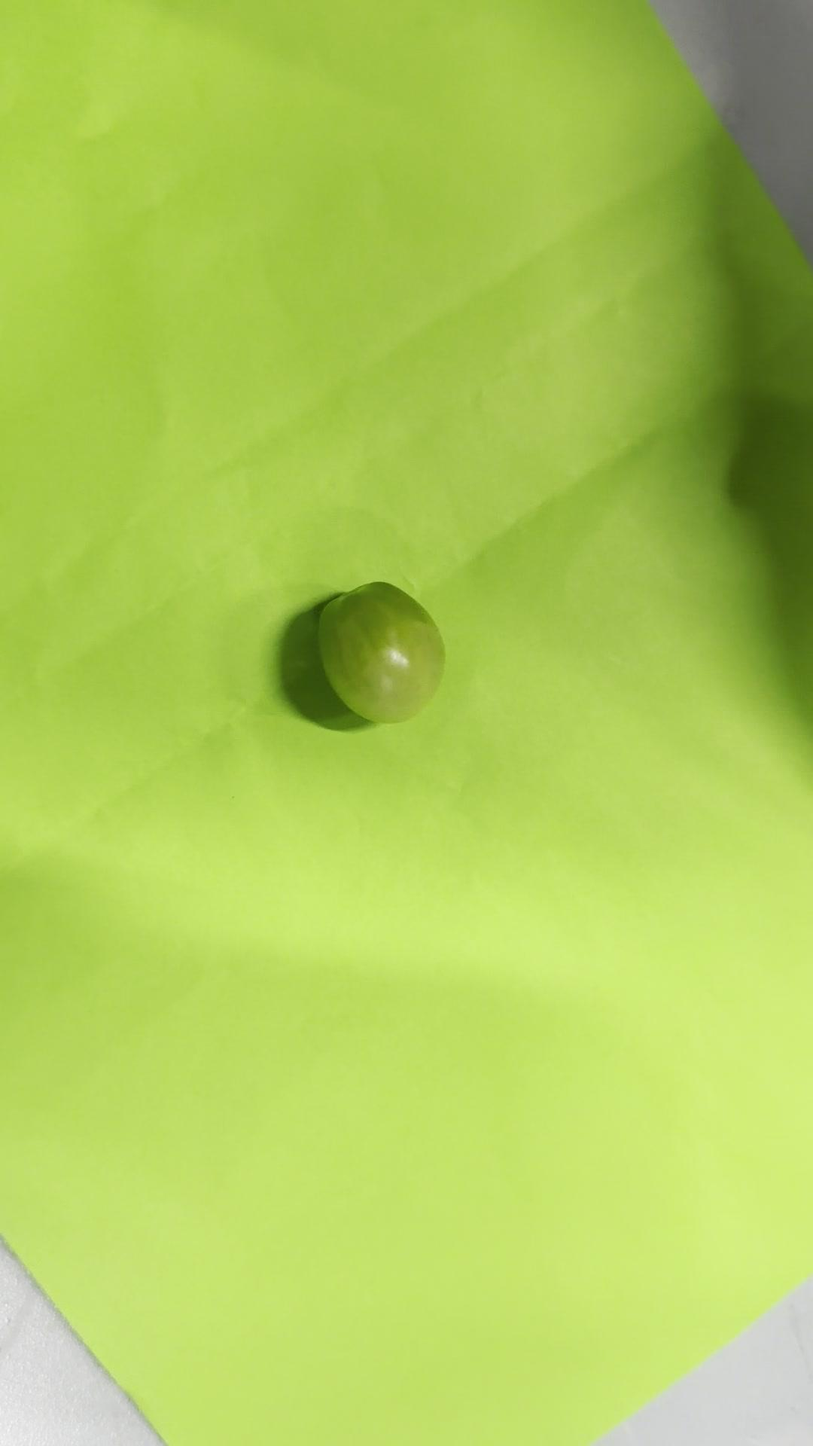green_cherry_tomato: (318, 582, 445, 724)
